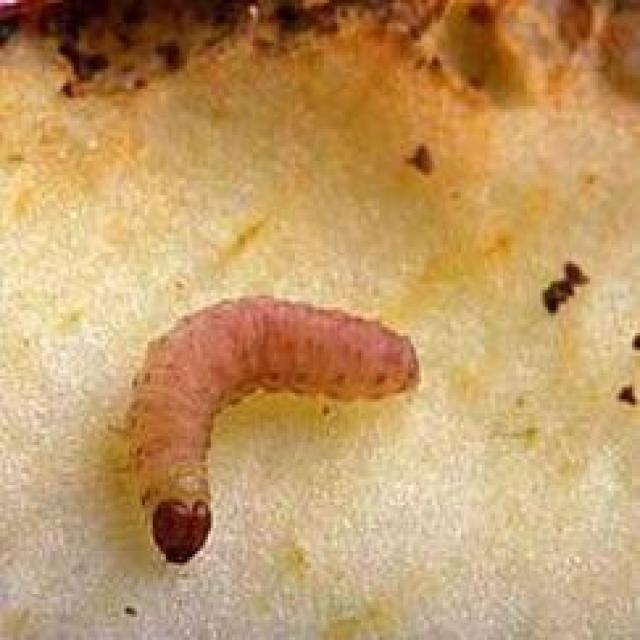peach borer: (116, 281, 429, 565)
